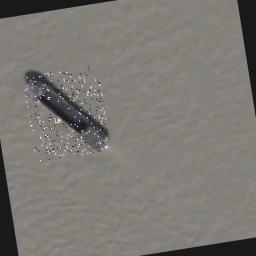boat: (22, 65, 112, 162)
